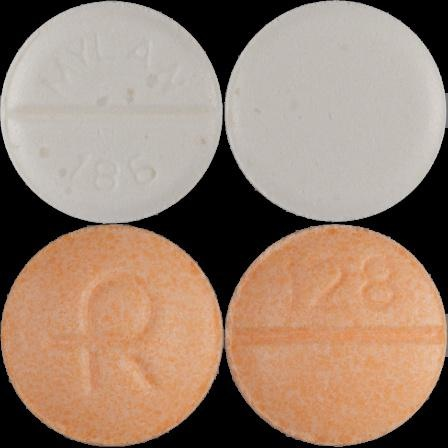53808-0230: (0, 0, 224, 224)
